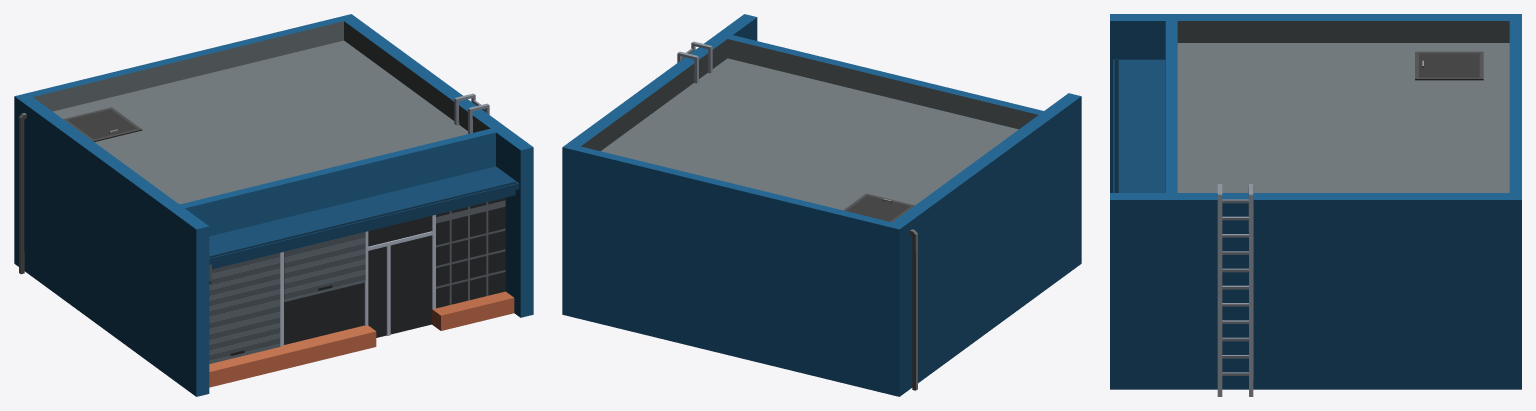
The model's file is SA_Bld_ShopSmall_Clean_02.gltf.
3 renders of one model, left to right at view 1: azimuth 30°, elevation 25°; view 2: azimuth 150°, elevation 25°; view 3: azimuth 270°, elevation 25°, orthographic. The views are drawn at different scales.
Visible parts, largest first — view 1: SA_Bld_ShopSmall_Clean_02; view 2: SA_Bld_ShopSmall_Clean_02; view 3: SA_Bld_ShopSmall_Clean_02.
Boxes of the visible parts, x1,y1,x2,y2 form: SA_Bld_ShopSmall_Clean_02: (14,14,533,396); SA_Bld_ShopSmall_Clean_02: (562,14,1081,396); SA_Bld_ShopSmall_Clean_02: (1110,14,1521,396).
Bounding box in the file's own units: 12.84 × 6.33 × 11.68.
1 material, 1 textured.
